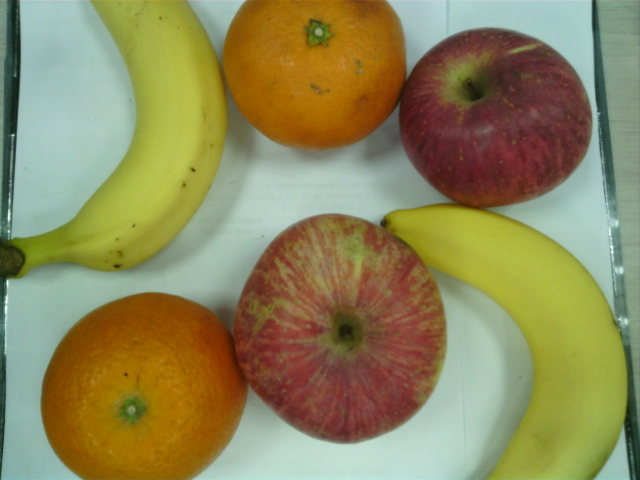normal_apple: (236, 213, 447, 445), (403, 28, 593, 208)
normal_banana: (382, 204, 626, 480), (1, 1, 225, 278)
normal_orange: (42, 293, 247, 480), (224, 1, 408, 150)
